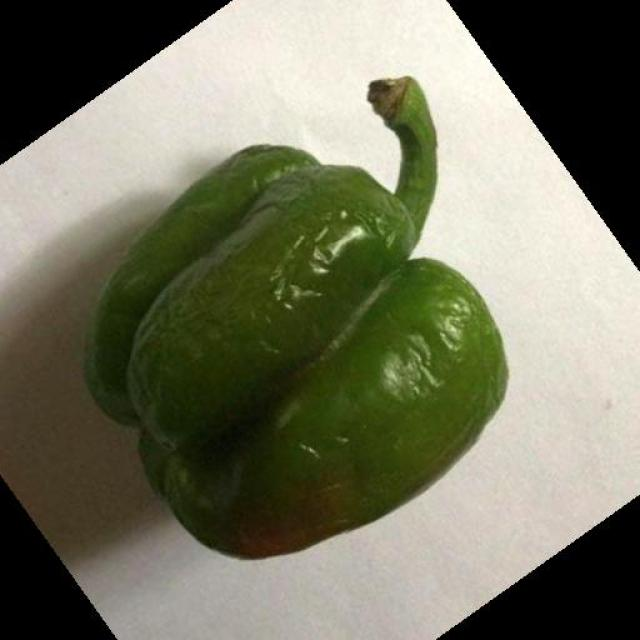Stale_Capsicum: (141, 83, 504, 540)
